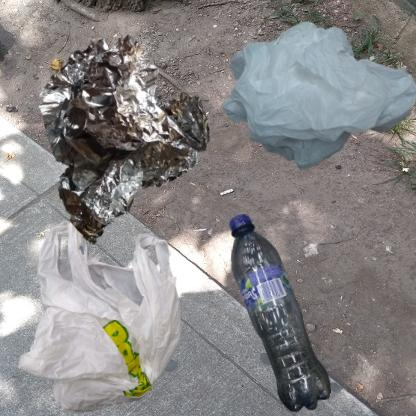aluminio: (10, 10, 255, 272)
bolsa: (10, 213, 207, 416), (213, 10, 416, 193)
botella: (213, 213, 349, 416)
